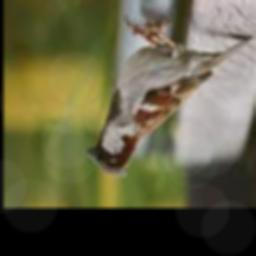Sparrow: (87, 16, 254, 176)
